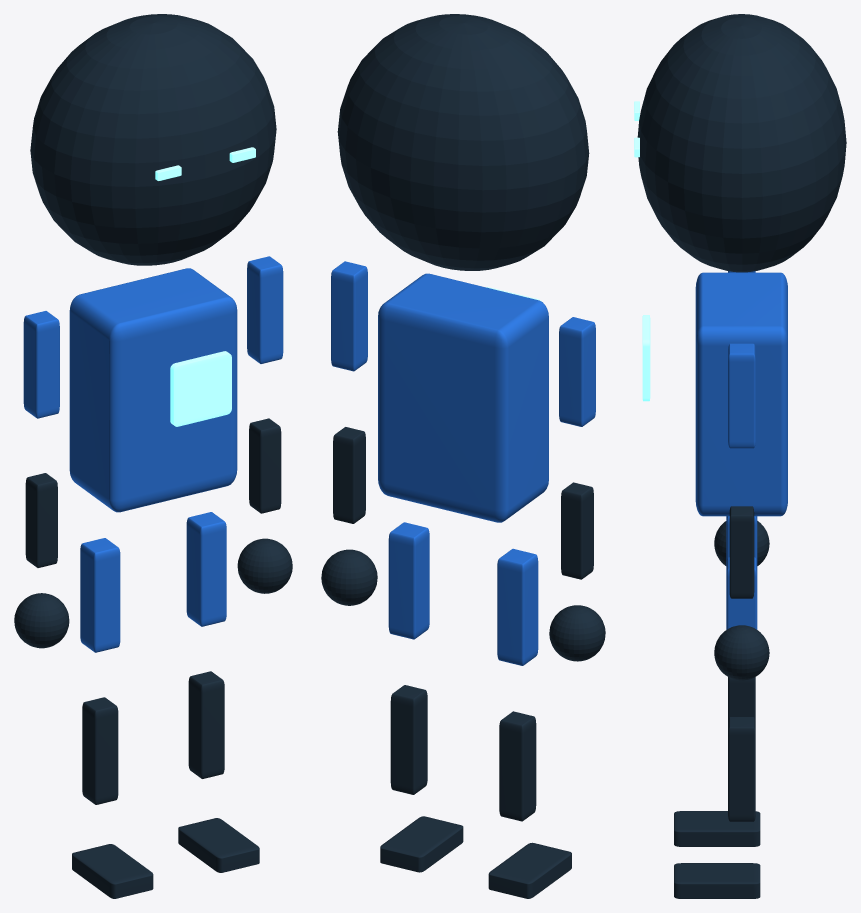
Rendered from beacon-rig.glb.
3 renders of one model, left to right at view 1: azimuth 30°, elevation 25°; view 2: azimuth 150°, elevation 25°; view 3: azimuth 270°, elevation 25°, orthographic. The views are drawn at different scales.
Parts seen in each view (by area): view 1: Head, Body, Thigh_-0.2, Thigh_0.2, Chest_Logo, Shin_0.2, Shin_-0.2, UpperArm_-0.42, UpperArm_0.42, Foot_0.2, Foot_-0.2, ForeArm_0.42 (+3 smaller); view 2: Head, Body, Thigh_0.2, Thigh_-0.2, Shin_-0.2, Shin_0.2, UpperArm_0.42, UpperArm_-0.42, Foot_0.2, Foot_-0.2, ForeArm_-0.42, ForeArm_0.42 (+2 smaller); view 3: Head, Body, Foot_0.2, UpperArm_0.42, Shin_0.2, Foot_-0.2, Hand_0.42, ForeArm_0.42, Thigh_0.2, Shin_-0.2, Hand_-0.42, Chest_Logo.
Part boxes in pixels (bbox=[...]): Head: bbox=[30, 14, 276, 265]; Body: bbox=[69, 268, 237, 512]; Thigh_-0.2: bbox=[80, 538, 120, 652]; Thigh_0.2: bbox=[186, 512, 226, 626]; Chest_Logo: bbox=[170, 351, 231, 426]; Shin_0.2: bbox=[188, 671, 224, 778]; Shin_-0.2: bbox=[82, 697, 118, 804]; UpperArm_-0.42: bbox=[23, 311, 59, 418]; UpperArm_0.42: bbox=[247, 256, 283, 363]; Foot_0.2: bbox=[178, 818, 259, 872]; Foot_-0.2: bbox=[72, 844, 153, 898]; ForeArm_0.42: bbox=[249, 418, 281, 513]; Head: bbox=[337, 14, 589, 270]; Body: bbox=[378, 273, 548, 522]; Thigh_0.2: bbox=[388, 522, 429, 639]; Thigh_-0.2: bbox=[497, 548, 538, 665]; Shin_-0.2: bbox=[499, 711, 536, 821]; Shin_0.2: bbox=[390, 685, 427, 794]; UpperArm_0.42: bbox=[331, 261, 367, 371]; UpperArm_-0.42: bbox=[559, 317, 595, 426]; Foot_0.2: bbox=[380, 816, 463, 872]; Foot_-0.2: bbox=[488, 842, 571, 898]; ForeArm_-0.42: bbox=[561, 482, 593, 579]; ForeArm_0.42: bbox=[333, 427, 365, 523]; Head: bbox=[637, 14, 846, 272]; Body: bbox=[695, 272, 787, 516]; Foot_0.2: bbox=[674, 863, 760, 898]; UpperArm_0.42: bbox=[728, 343, 755, 448]; Shin_0.2: bbox=[728, 717, 755, 821]; Foot_-0.2: bbox=[674, 811, 760, 846]; Hand_0.42: bbox=[714, 625, 769, 680]; ForeArm_0.42: bbox=[729, 506, 754, 598]; Thigh_0.2: bbox=[726, 557, 757, 629]; Shin_-0.2: bbox=[728, 677, 755, 721]; Hand_-0.42: bbox=[714, 521, 769, 565]; Chest_Logo: bbox=[642, 315, 650, 401].
Size of the model in its own units: 1.02 by 3 by 0.689.
